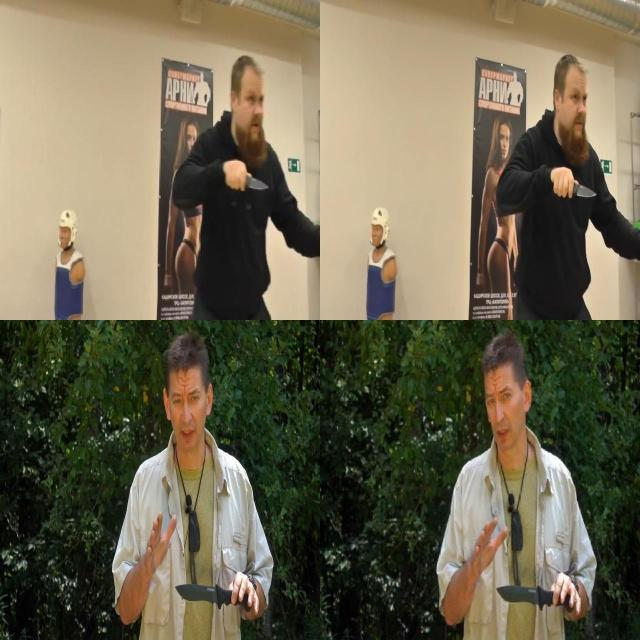-: (492, 570, 582, 617), (173, 574, 260, 617), (224, 155, 269, 195), (552, 163, 598, 200)
